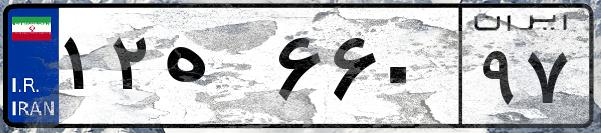0: (385, 28, 445, 110)
1: (57, 26, 110, 100)
2: (110, 28, 158, 98)
6: (270, 28, 330, 110), (330, 28, 385, 110)
7: (525, 38, 570, 115)
9: (475, 38, 525, 113)
ه: (158, 20, 270, 120)
